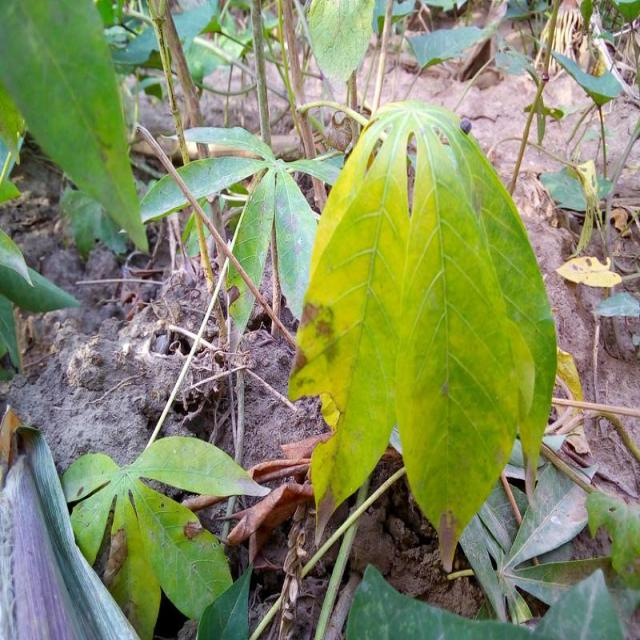cassava leaf: (287, 97, 558, 570)
